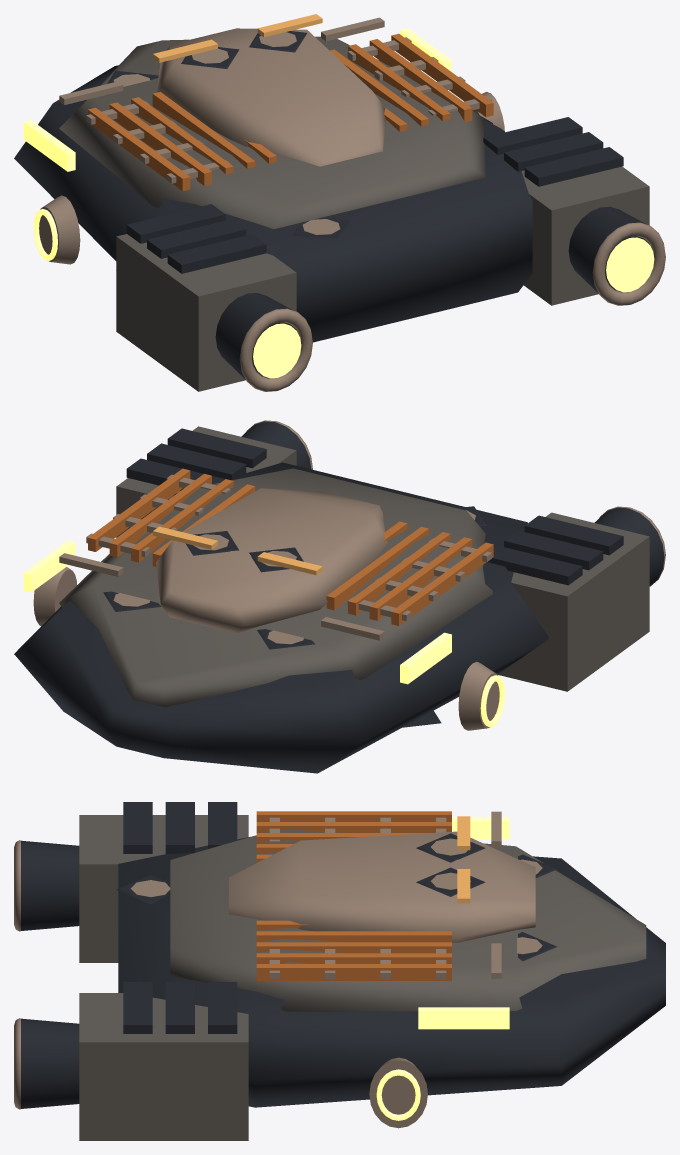
Rendered from compact_high_gravity--warp_scout.glb.
The picture shows the model from 3 angles, top to bottom: view 1: azimuth 30°, elevation 25°; view 2: azimuth 150°, elevation 25°; view 3: azimuth 270°, elevation 25°; orthographic projection. The views are drawn at different scales.
Parts seen in each view (by area): view 1: load_bearing_wedge_1, stepped_main_plate_2, reinforced_command_deck_3, armored_drive_block_4, armored_drive_block_25, nozzle_rim_6, nozzle_rim_27, engine_shroud_26, engine_shroud_5, drive_grille_20, drive_grille_41, engine_core_28 (+21 smaller); view 2: load_bearing_wedge_1, stepped_main_plate_2, reinforced_command_deck_3, armored_drive_block_4, armored_drive_block_25, integral_docking_collar_22, drive_grille_18, drive_grille_19, drive_grille_20, drive_grille_41, drive_grille_40, deck_load_rib_16 (+18 smaller); view 3: load_bearing_wedge_1, stepped_main_plate_2, reinforced_command_deck_3, armored_drive_block_25, armored_drive_block_4, engine_shroud_5, engine_shroud_26, deck_load_rib_37, integral_docking_collar_43, deck_load_rib_31, navigation_inlay_45, deck_load_rib_16 (+16 smaller).
Part boxes in pixels (x1,y1,x2,y2): load_bearing_wedge_1: (14, 65, 532, 342); stepped_main_plate_2: (59, 36, 492, 228); reinforced_command_deck_3: (156, 28, 385, 166); armored_drive_block_4: (116, 234, 296, 391); armored_drive_block_25: (521, 166, 649, 305); nozzle_rim_6: (239, 308, 312, 391); nozzle_rim_27: (592, 222, 665, 305); engine_shroud_26: (568, 206, 652, 292); engine_shroud_5: (215, 293, 299, 379); drive_grille_20: (167, 234, 266, 273); drive_grille_41: (524, 147, 623, 186); engine_core_28: (606, 237, 654, 292); load_bearing_wedge_1: (14, 462, 548, 773); stepped_main_plate_2: (59, 468, 492, 707); reinforced_command_deck_3: (156, 488, 387, 633); armored_drive_block_4: (498, 512, 649, 691); armored_drive_block_25: (116, 426, 296, 537); integral_docking_collar_22: (458, 662, 499, 730); drive_grille_18: (487, 545, 582, 585); drive_grille_19: (504, 530, 603, 570); drive_grille_20: (524, 515, 623, 555); drive_grille_41: (167, 428, 266, 468); drive_grille_40: (147, 443, 246, 480); deck_load_rib_16: (391, 542, 493, 625); load_bearing_wedge_1: (118, 836, 665, 1107); stepped_main_plate_2: (170, 829, 646, 1011); reinforced_command_deck_3: (229, 831, 535, 942); armored_drive_block_25: (79, 993, 248, 1140); armored_drive_block_4: (79, 815, 248, 962); engine_shroud_5: (21, 840, 79, 930); engine_shroud_26: (21, 1018, 79, 1108); deck_load_rib_37: (256, 964, 451, 980); integral_docking_collar_43: (369, 1057, 427, 1128); deck_load_rib_31: (256, 931, 451, 942); navigation_inlay_45: (418, 1007, 509, 1029); deck_load_rib_16: (256, 811, 451, 821).
Bounding box in the file's own units: 96 × 36 × 116.
